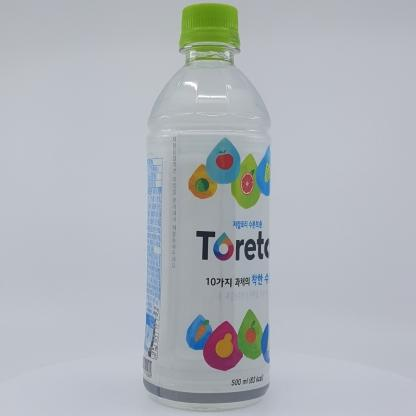-----500ML: (144, 3, 271, 412), (106, 143, 107, 143)
